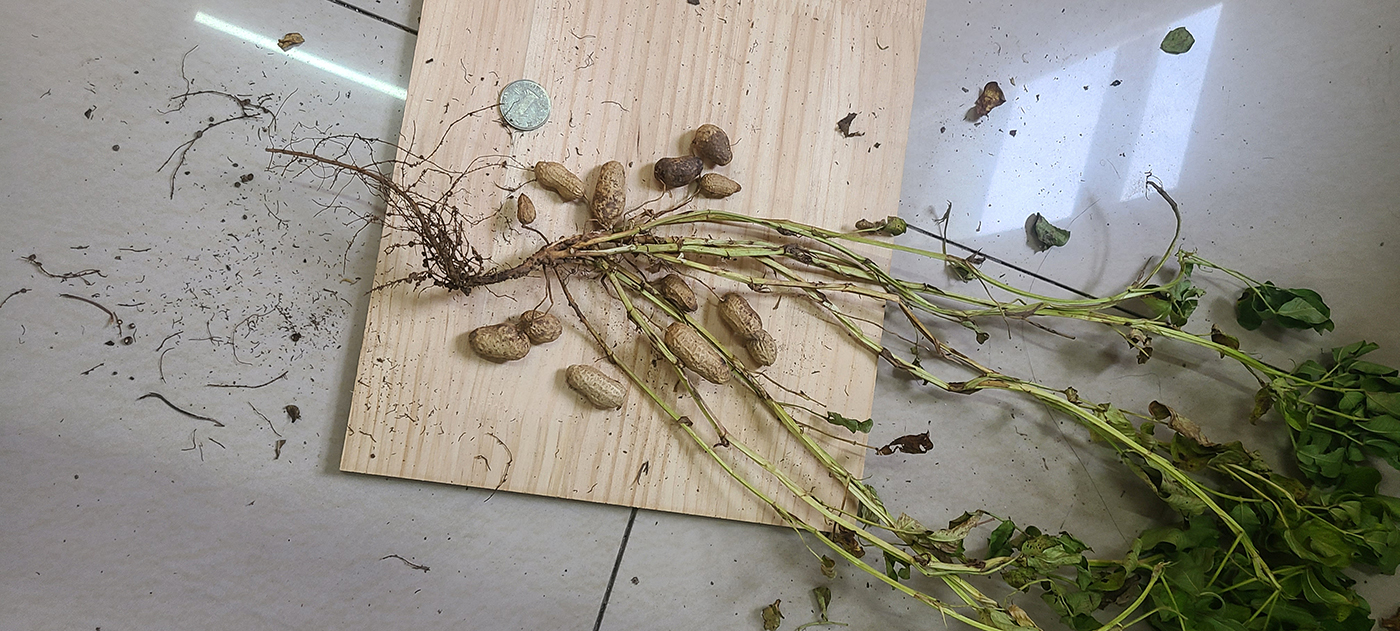h: (718, 292, 778, 365), (665, 321, 732, 384), (568, 366, 628, 410), (472, 324, 530, 364), (592, 161, 628, 225), (534, 161, 585, 202), (661, 275, 700, 313), (522, 309, 565, 343), (701, 174, 742, 197)
l: (694, 123, 733, 166), (655, 154, 703, 187)
